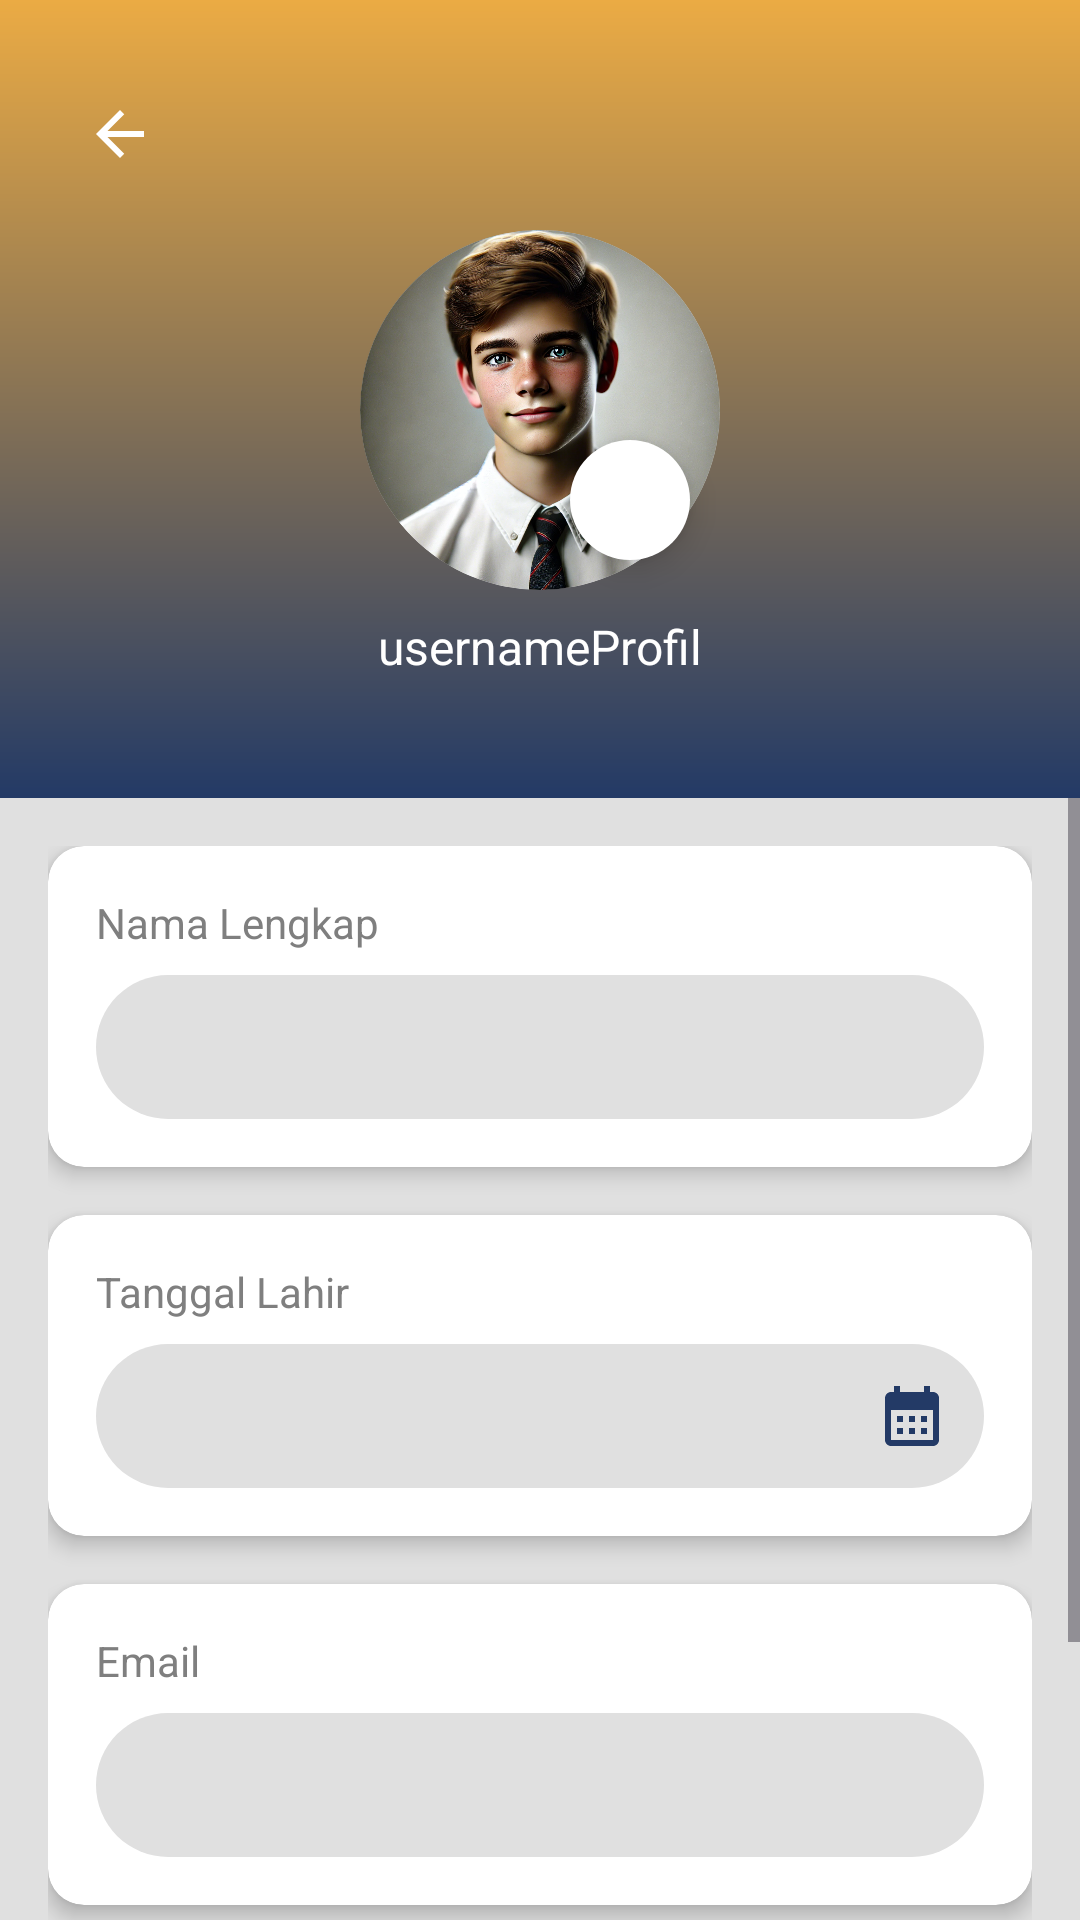

Icons on this 1080*1920 Android screen, each with the point to tap as (x,y):
Foto profil pengguna: (540,410)
